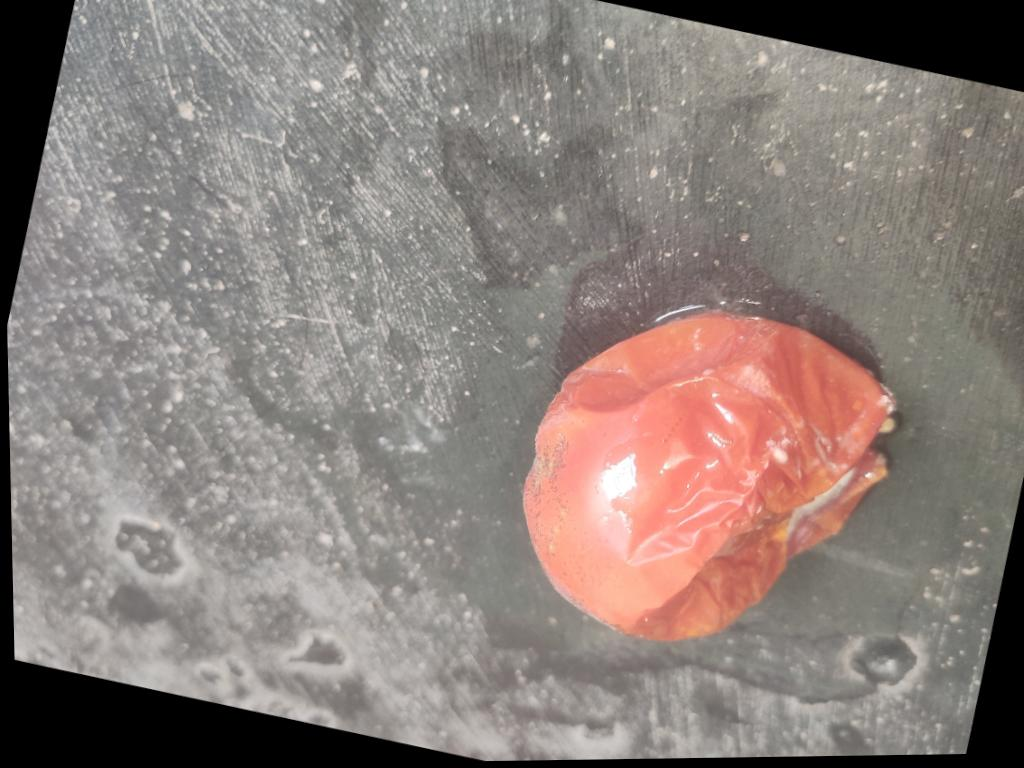rot_mold_decay: (541, 318, 896, 565)
surface_damage: (637, 443, 887, 641)
tomato: (523, 314, 892, 640)
